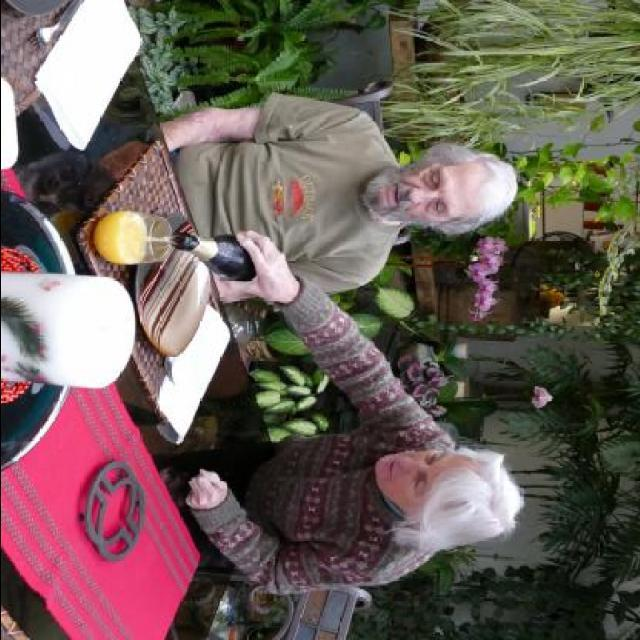Juice: (86, 209, 152, 266)
